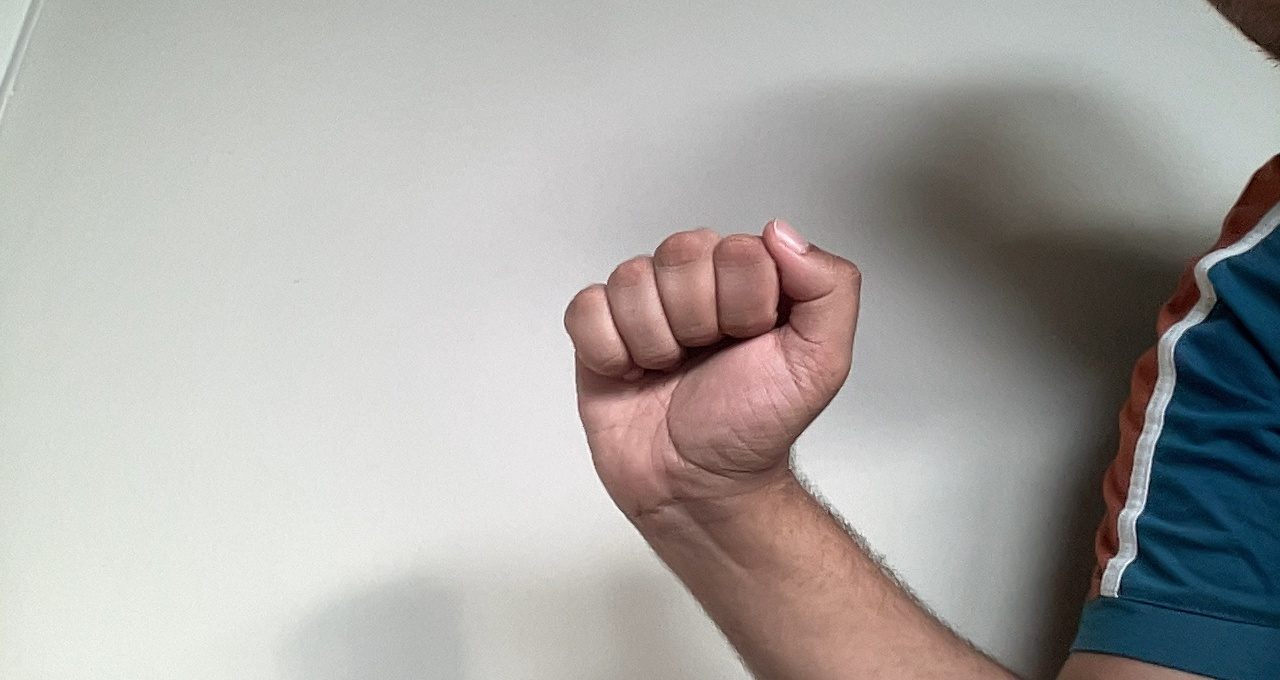closedfist: (556, 211, 869, 529)
